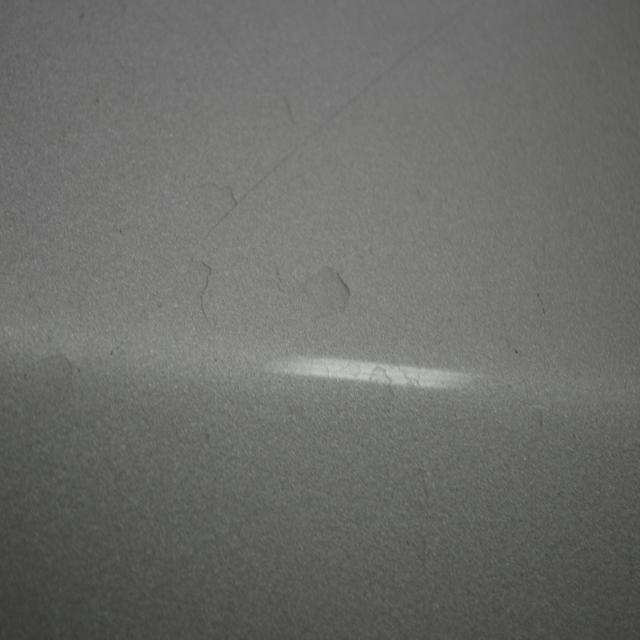scratch: (103, 3, 463, 362)
water marks: (296, 260, 355, 325), (182, 244, 220, 334), (22, 350, 80, 406), (196, 171, 244, 224), (364, 362, 397, 420), (405, 173, 429, 216), (527, 398, 546, 434)
